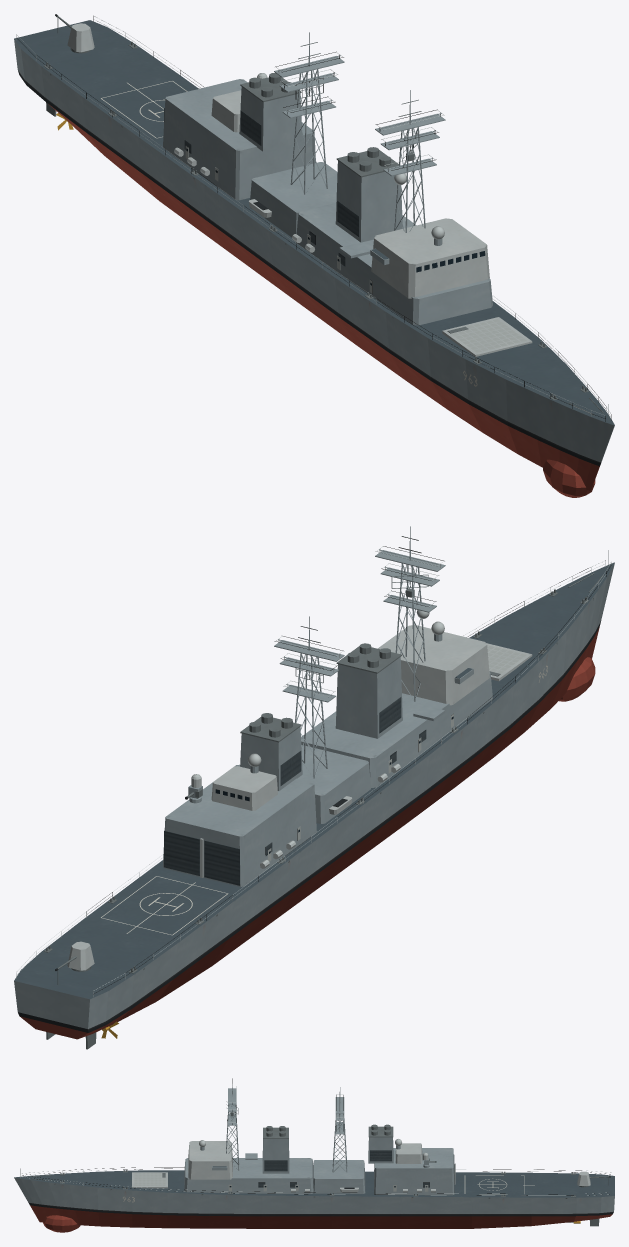
The model's file is hull_spruance.glb.
3 views of the same model, one above another, from view 1: azimuth 30°, elevation 25°; view 2: azimuth 150°, elevation 25°; view 3: azimuth 270°, elevation 25° (orthographic). The views are drawn at different scales.
Visible parts, largest first — view 1: MESH_SPRUANCE_HULL.002; view 2: MESH_SPRUANCE_HULL.002; view 3: MESH_SPRUANCE_HULL.002.
Part boxes in pixels (bbox=[...]): MESH_SPRUANCE_HULL.002: bbox=[14, 14, 614, 497]; MESH_SPRUANCE_HULL.002: bbox=[14, 526, 614, 1049]; MESH_SPRUANCE_HULL.002: bbox=[14, 1078, 614, 1232].
Bounding box in the file's own units: 16.82 × 48.3 × 172.
Materials: 1 (1 with a texture image).
